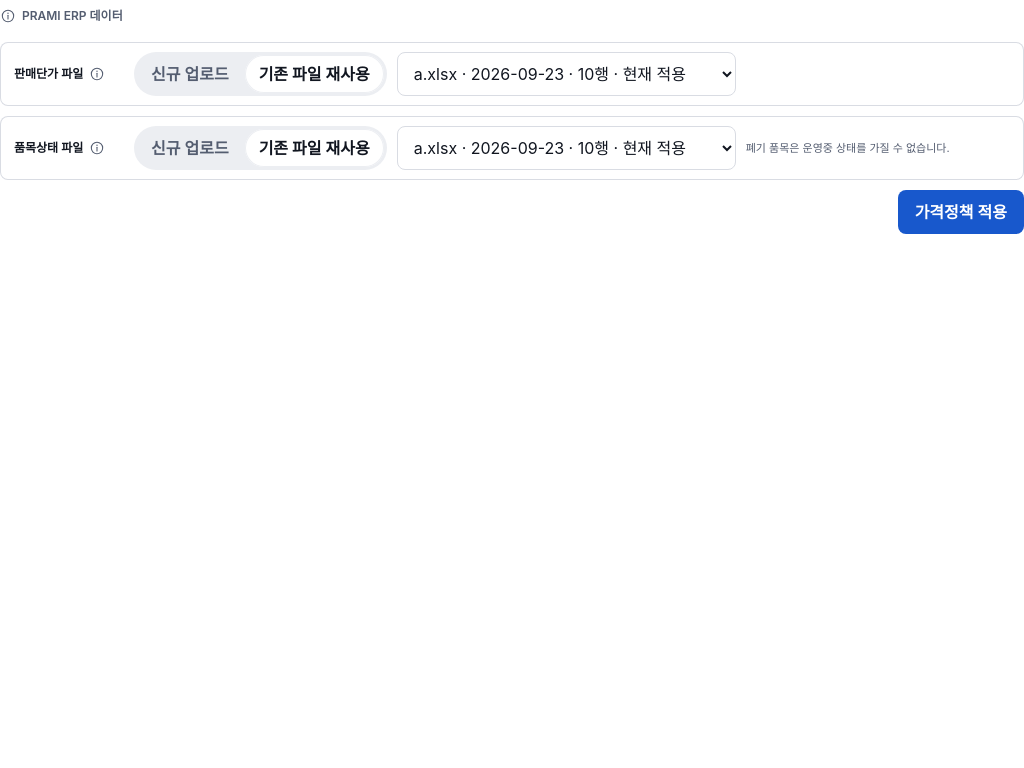
ImportPanel — ERP 안내 › 기존 파일 재사용 모드에서도 칸별 ⓘ 와 공통 설명 버튼이 보인다
The width and height of the screenshot is (1024, 768).
Expected: the dropdown named "판매단가 파일 기존 배치" is shown, [397,52,736,96]
Click the button named "판매단가 파일 ERP 메뉴 경로". click: click(97, 74)
box: [85,62,109,86]
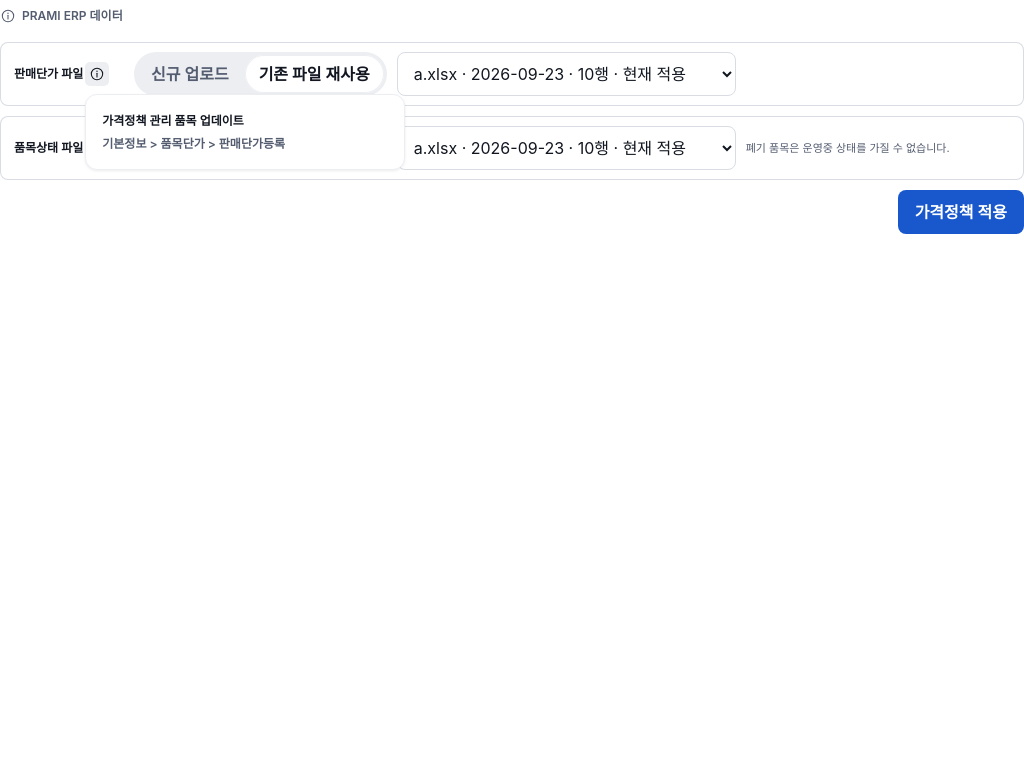
Press Escape
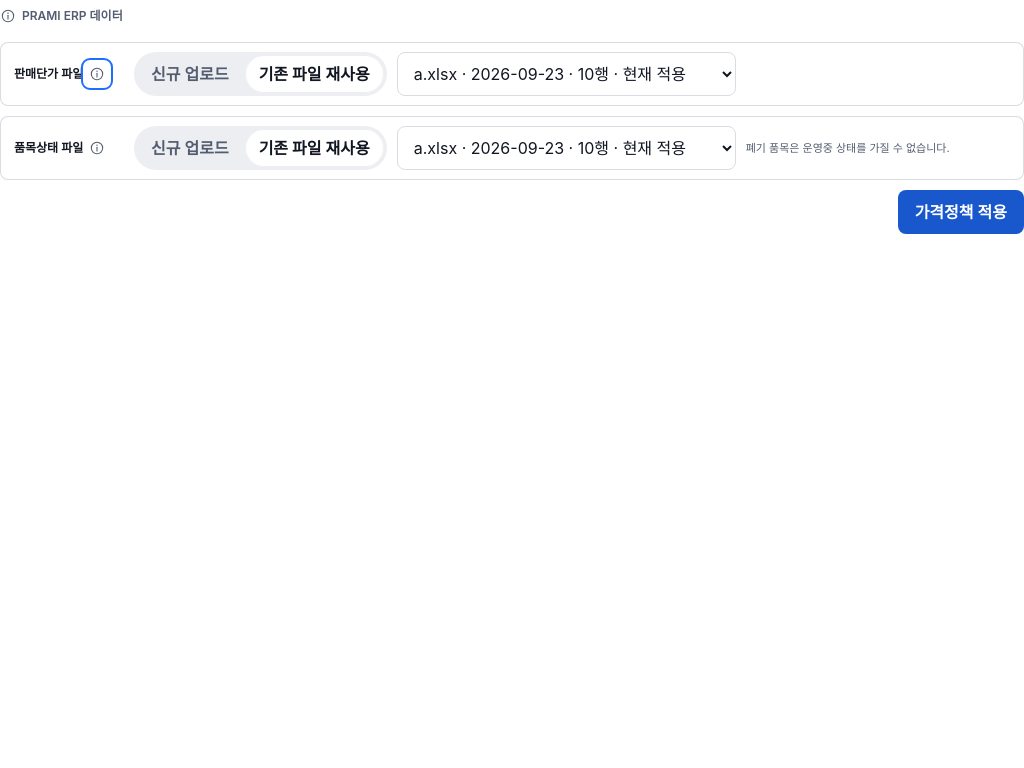
Expected: the dialog is gone
Click the button named "품목상태 파일 ERP 메뉴 경로". click: click(97, 148)
box: [85,136,109,160]
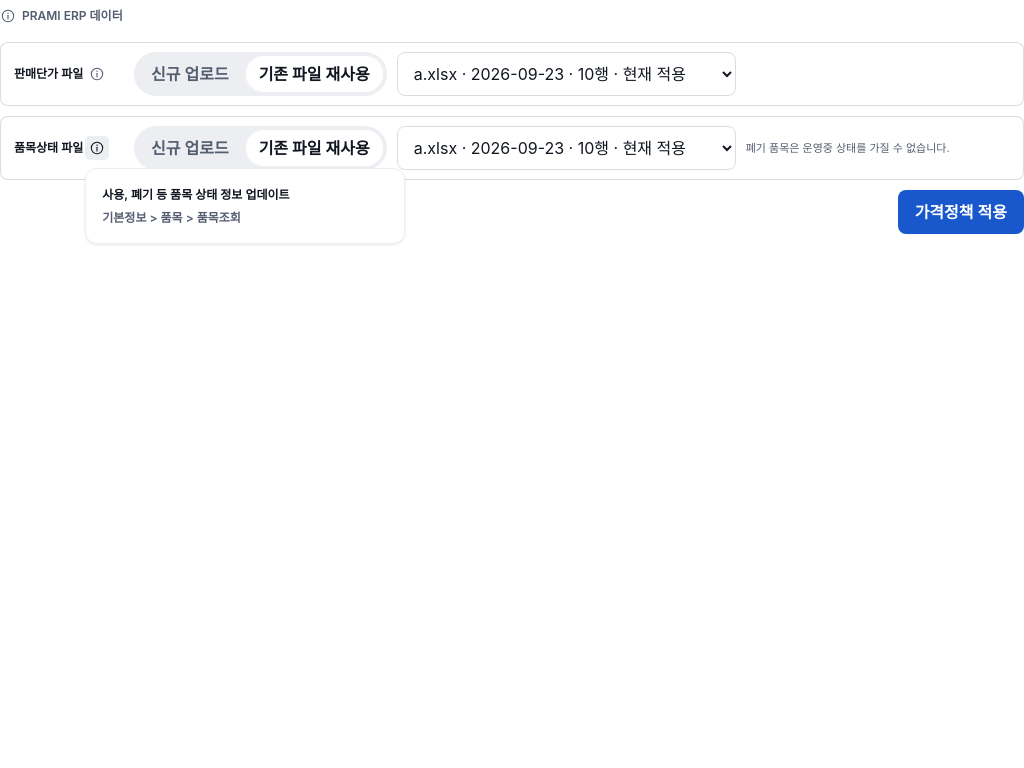
Press Escape
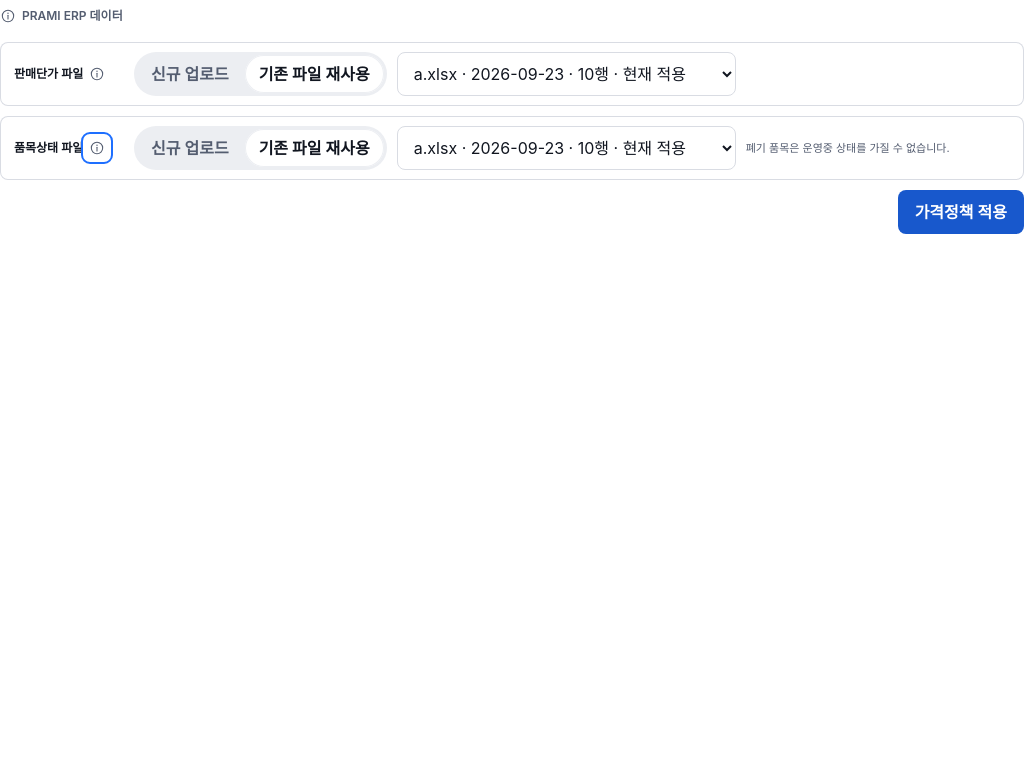
Expected: the dialog is gone
